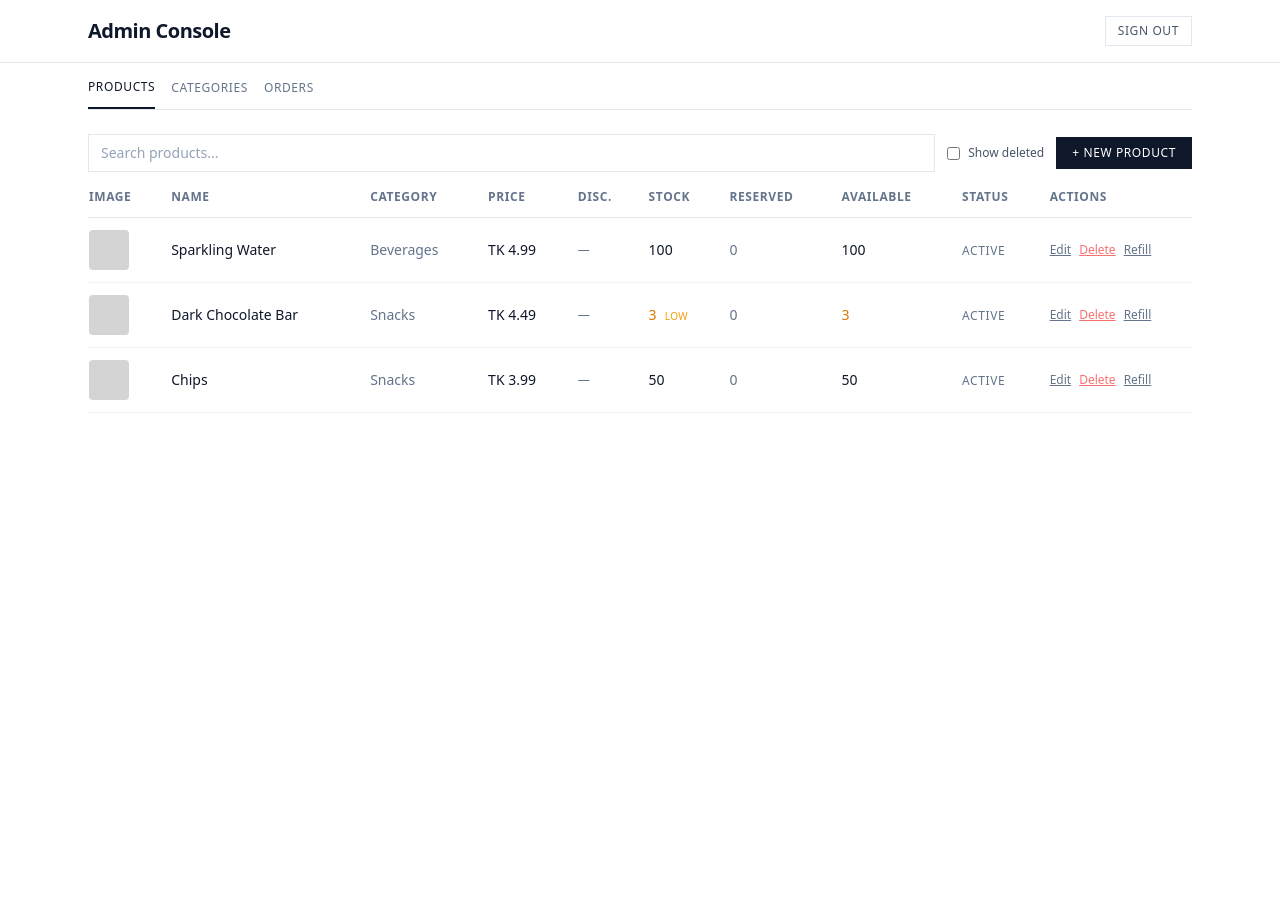
Test: Mini-Mart storefront › admin edit form shows image upload for existing product
Expected: the text "Sparkling Water" is shown, [170,218,369,282]
Click the button "Edit" in the row of "Sparkling Water". click: (1060, 250)
box: [1050,242,1071,258]
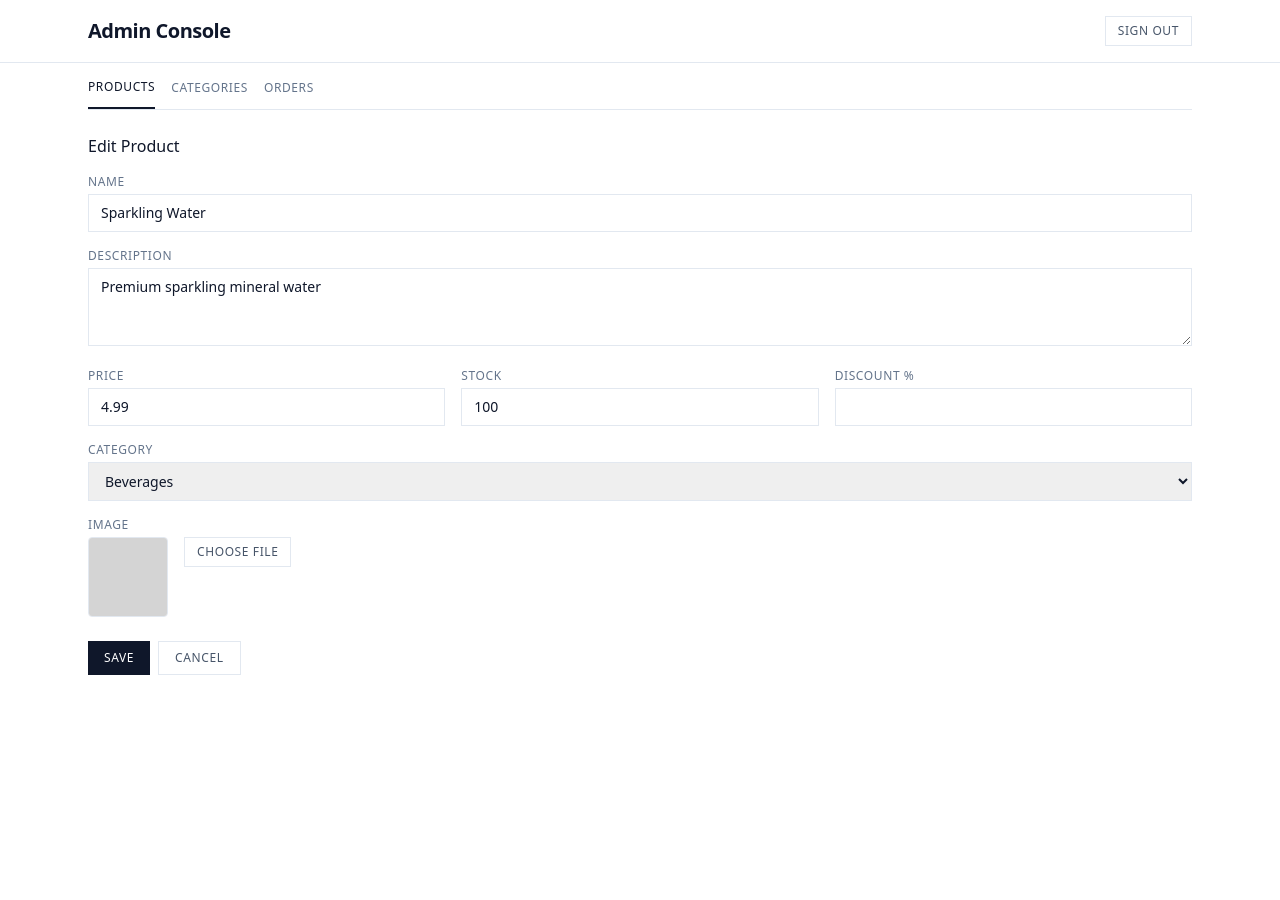
Expected: the heading "Edit Product" is shown, [88,135,180,157]
Expected: the file field "Choose file" is shown, [184,537,292,567]
